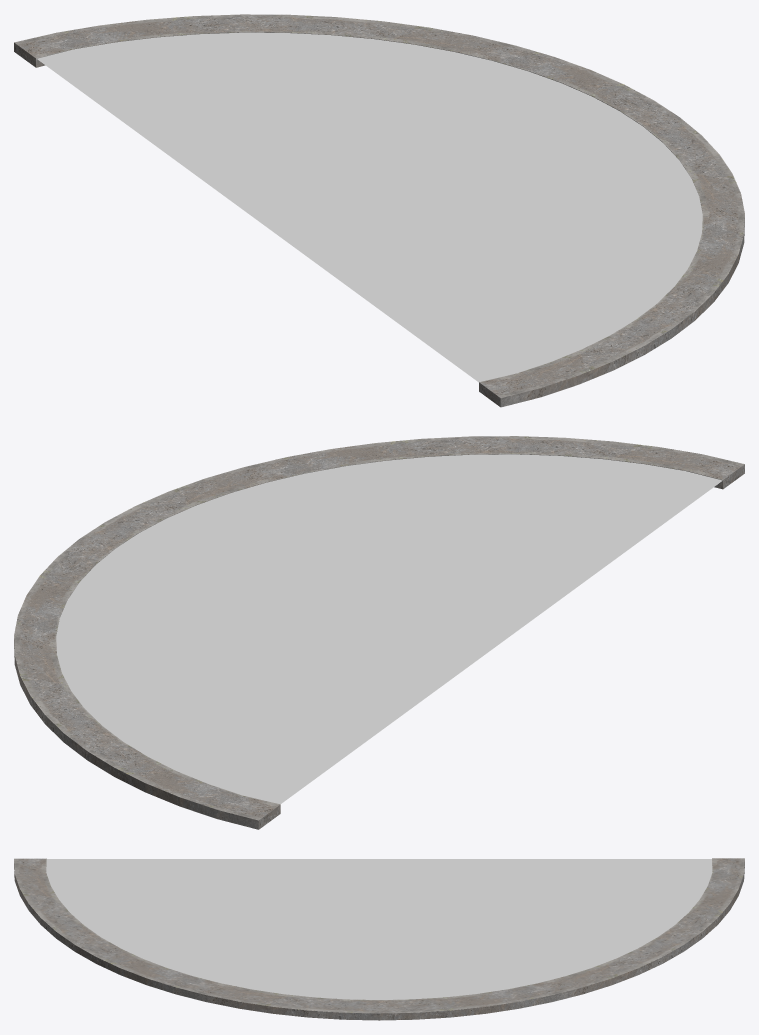
The model's file is MB_Sidewalk_Semicircle_01.fbx.
3 renders of one model, top to bottom at view 1: azimuth 30°, elevation 25°; view 2: azimuth 150°, elevation 25°; view 3: azimuth 270°, elevation 25°, orthographic. The views are drawn at different scales.
Parts seen in each view (by area): view 1: MB_Sidewalk_Semicircle_01_LOD0; view 2: MB_Sidewalk_Semicircle_01_LOD0; view 3: MB_Sidewalk_Semicircle_01_LOD0.
Part boxes in pixels (x1,y1,x2,y2): MB_Sidewalk_Semicircle_01_LOD0: (14, 14, 744, 407); MB_Sidewalk_Semicircle_01_LOD0: (14, 436, 744, 829); MB_Sidewalk_Semicircle_01_LOD0: (14, 858, 744, 1020).
Size of what is drawn, in the model's own units: 544 by 11.42 by 1083.
